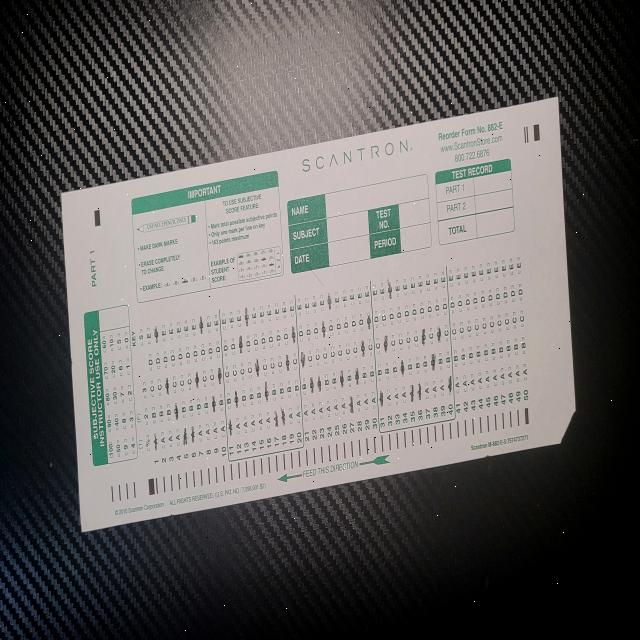scantron: (61, 97, 577, 534)
